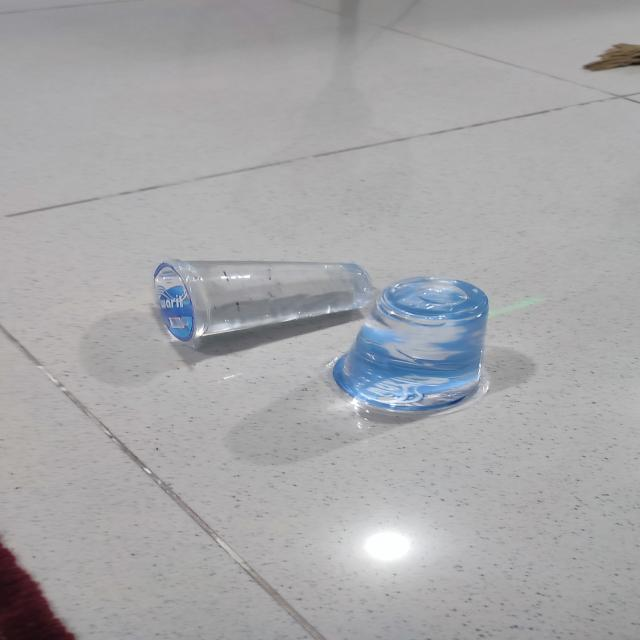air gelas: (134, 245, 381, 348), (326, 267, 506, 408)
